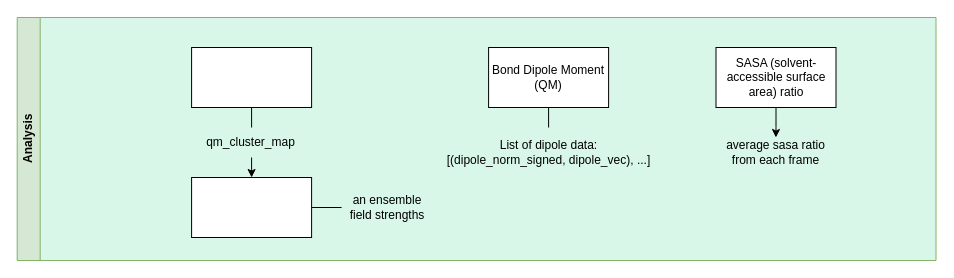
Image size: 954x278. Some labels were removed from this diagram. The shapes that lost their labels are listed below. From the top down, each one's centre as x and y in pixels, then its label:
At pixel 251 77: "Targeting C-I Bond (custom which to target)".
At pixel 251 207: "Field Strength (MM)".
